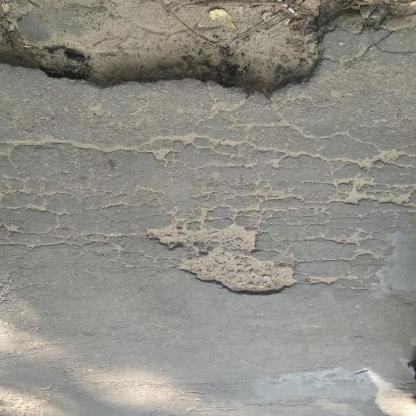pothole: (2, 2, 403, 106), (145, 225, 299, 299)
